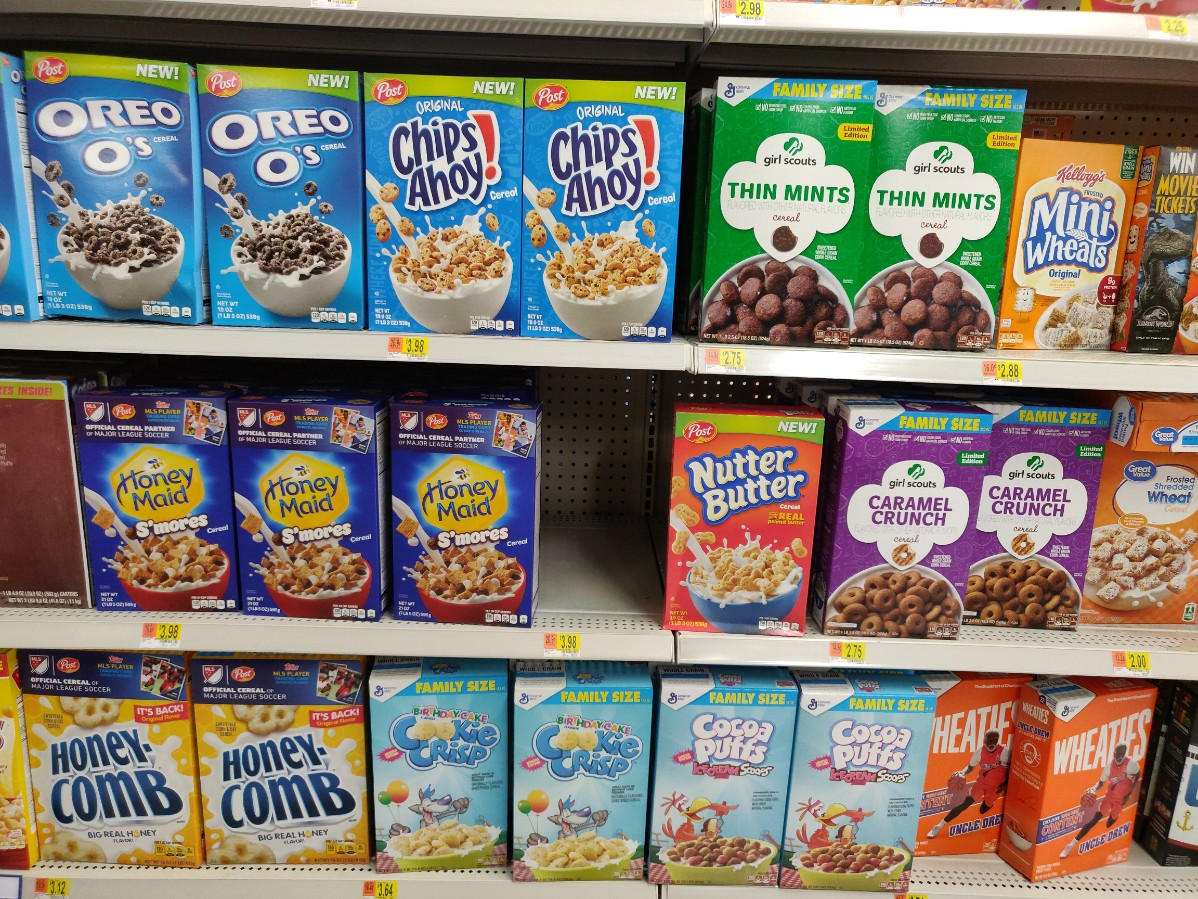Chips Ahoys-565717529: (359, 62, 525, 335), (523, 75, 686, 343)
Honey Comb- 009288857: (24, 47, 206, 325), (17, 648, 209, 869), (188, 654, 377, 874)
Oreo-563424384: (203, 51, 371, 337)
